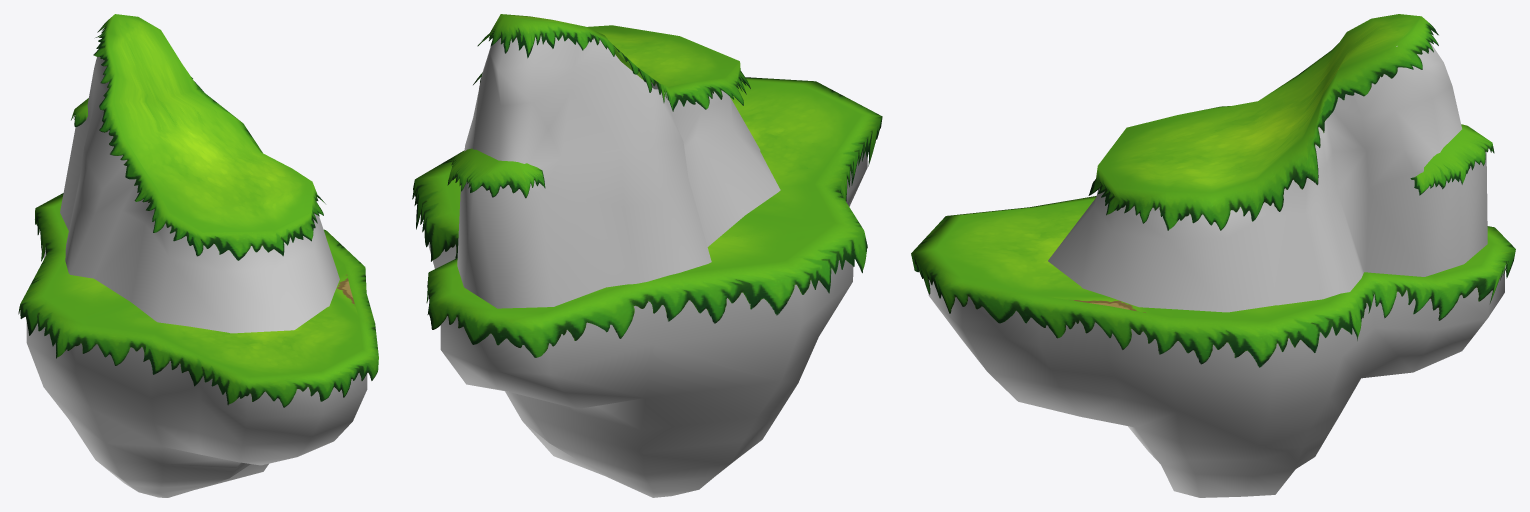
File: Island_Small_10.fbx
The picture shows the model from 3 angles, left to right: view 1: azimuth 30°, elevation 25°; view 2: azimuth 150°, elevation 25°; view 3: azimuth 270°, elevation 25°; orthographic projection. The views are drawn at different scales.
Visible parts, largest first — view 1: Island_Small_10; view 2: Island_Small_10; view 3: Island_Small_10.
Part boxes in pixels (<box>): Island_Small_10: <box>18,14,378,497</box>; Island_Small_10: <box>412,14,882,497</box>; Island_Small_10: <box>911,14,1515,497</box>.
Bounding box in the file's own units: 364 × 459 × 524.
